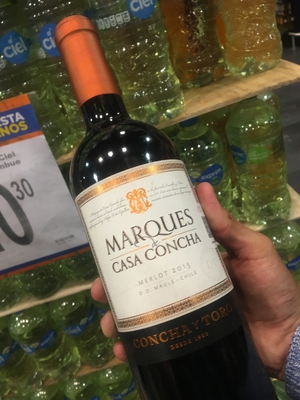marques de casa concha merlot: (50, 21, 263, 400)
